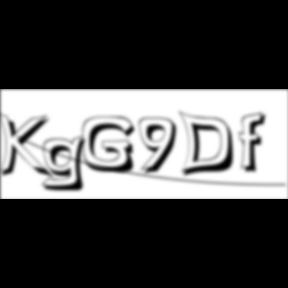9: (138, 117, 184, 177)
D: (178, 110, 240, 180)
G: (83, 116, 142, 176)
K: (0, 110, 56, 182)
f: (238, 111, 272, 175)
g: (42, 134, 94, 194)
